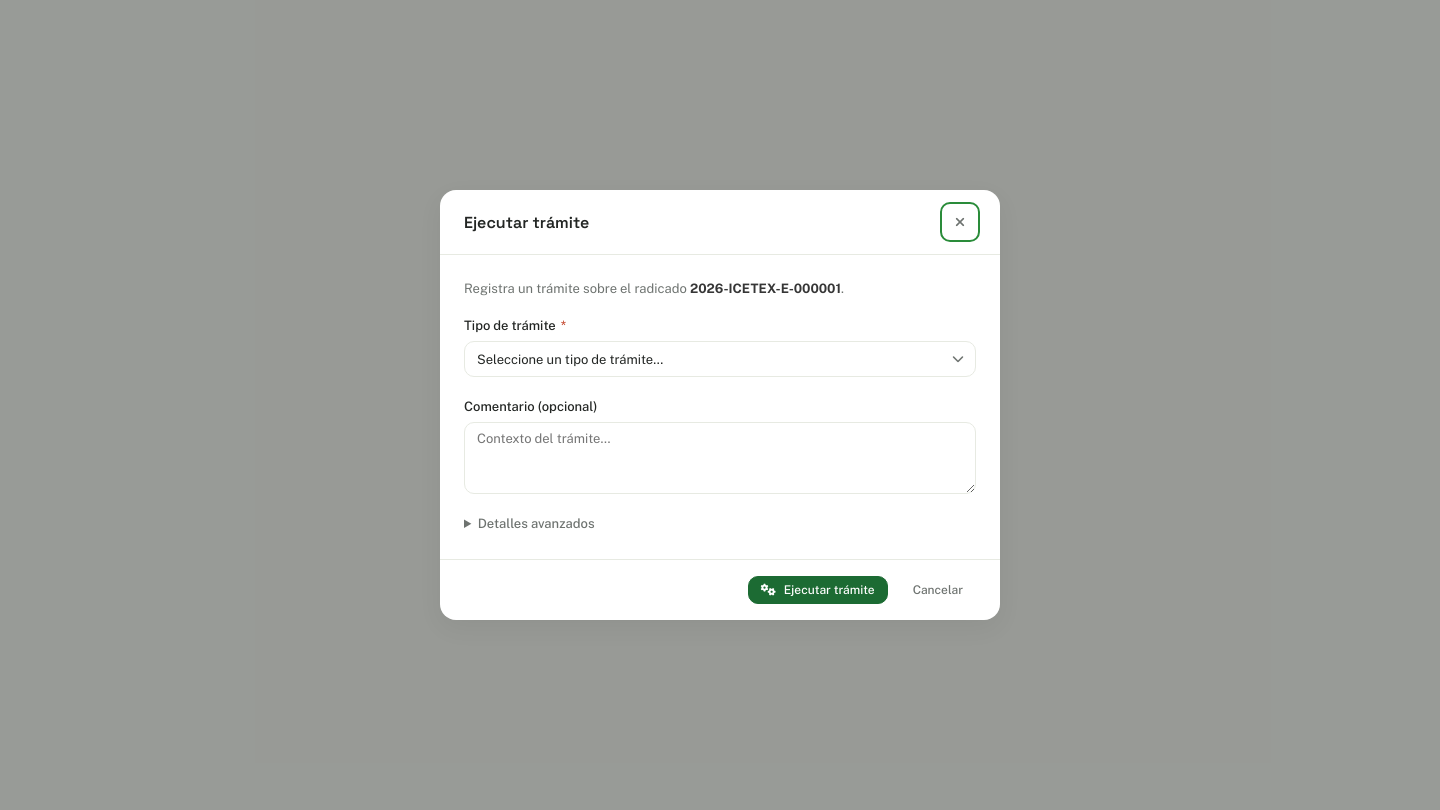
it: TransaccionModal — un trámite que cancela el paso (A8) › con el catálogo cargado, seleccionar 'Anular' exige comentario antes de enviar
Select "Anular" in the dropdown labelled "Tipo de trámite *" at x=720, y=359, box x1=464 y1=341 x2=976 y2=377
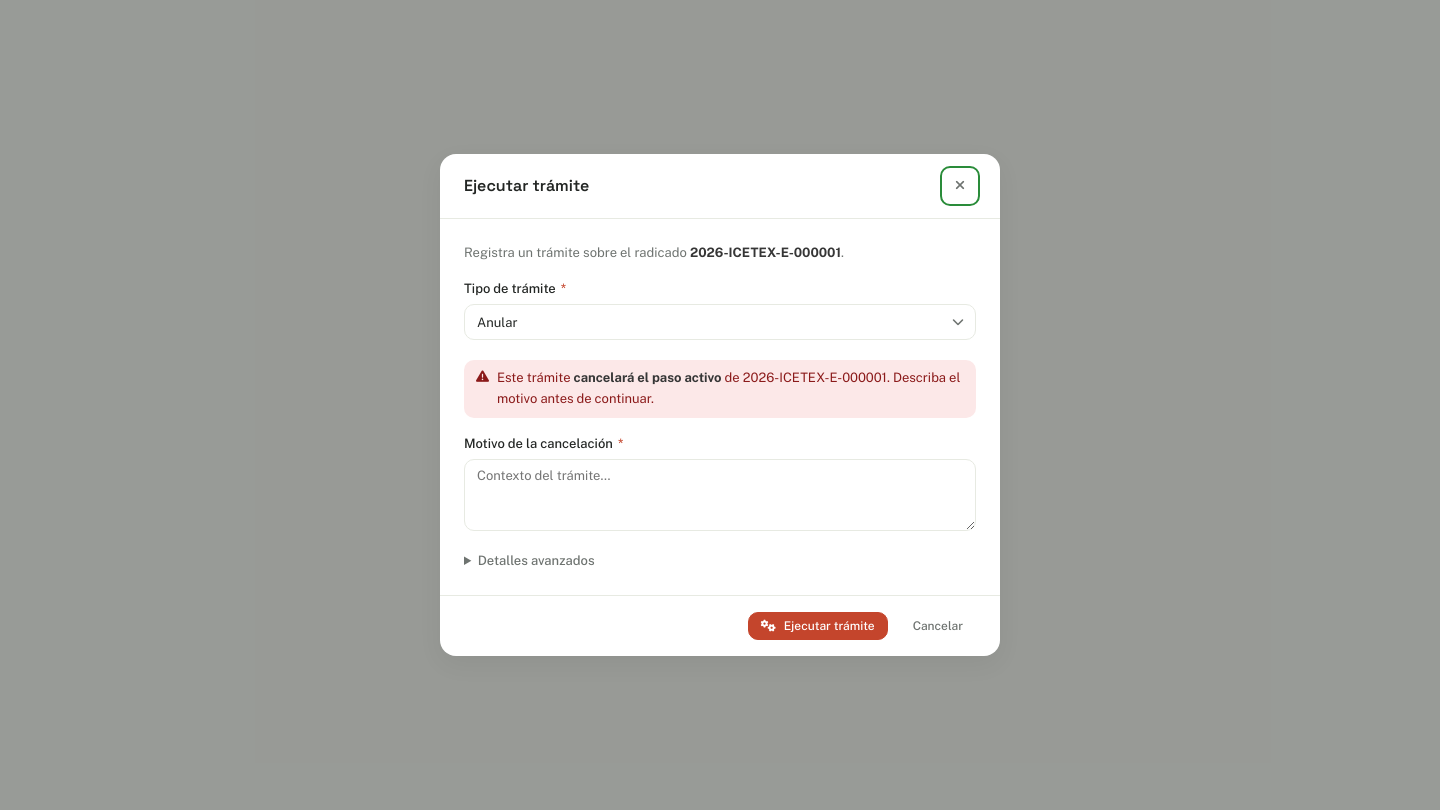
Result: the text "cancelará el paso activo" is shown at x1=574 y1=370 x2=722 y2=385
Click the 1st button named "ejecutar trámite" at x=818, y=626, box x1=748 y1=612 x2=888 y2=640
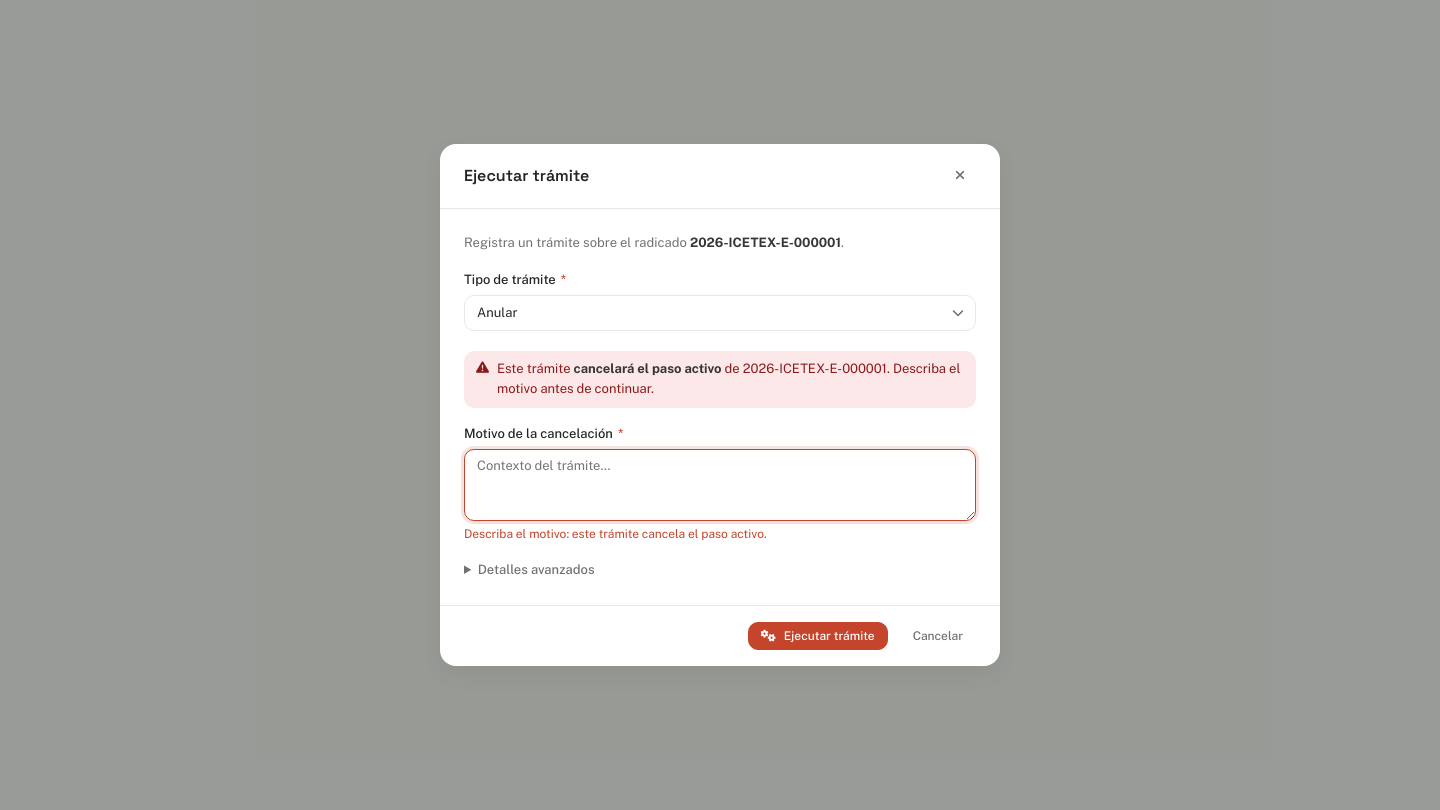
Result: the text "Describa el motivo: este trámite cancela el paso activo." is shown at x1=464 y1=527 x2=767 y2=541
